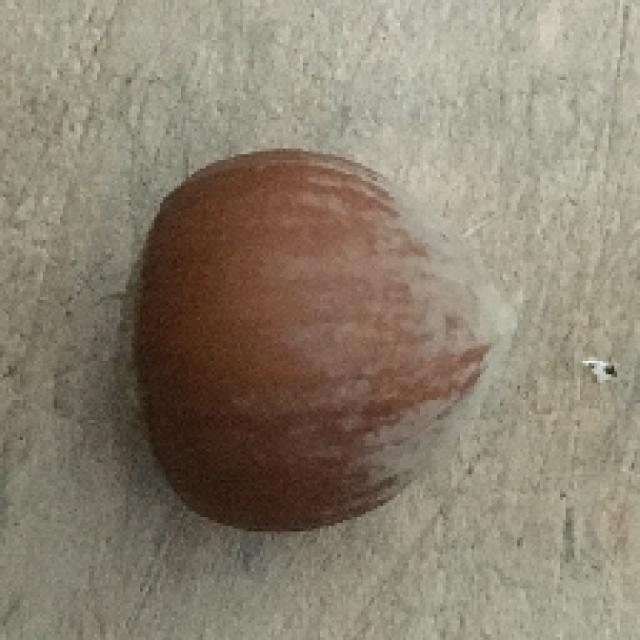qualityHazelnut: (106, 132, 526, 540)
